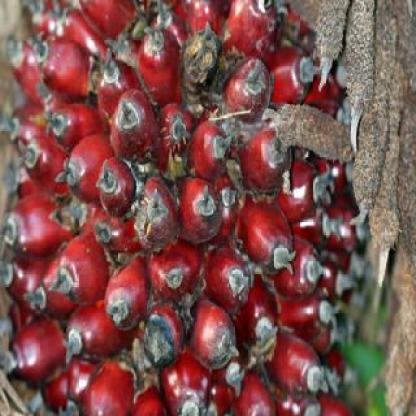Ripe: (0, 0, 376, 416)
